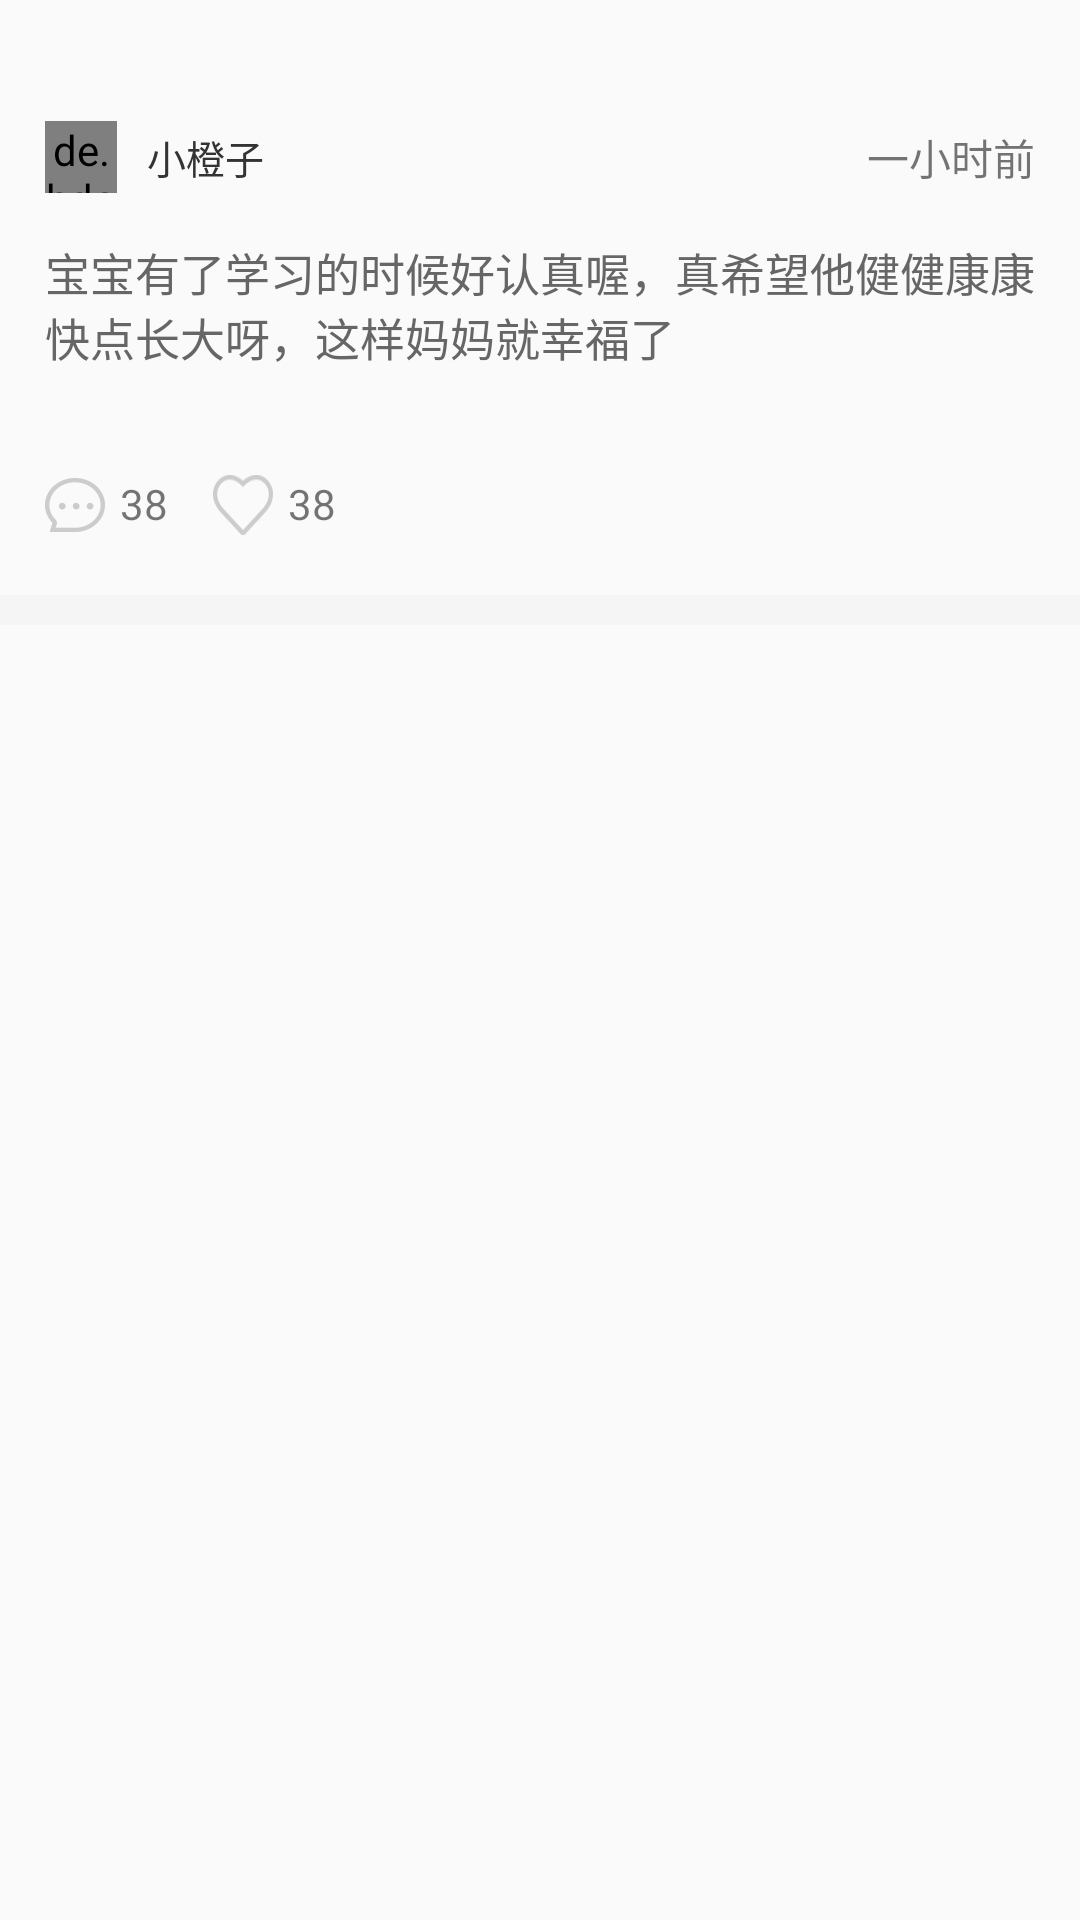

Point at icon controls on the screen. Image size 1080*1920, points as [x,y].
love: [243,505]
